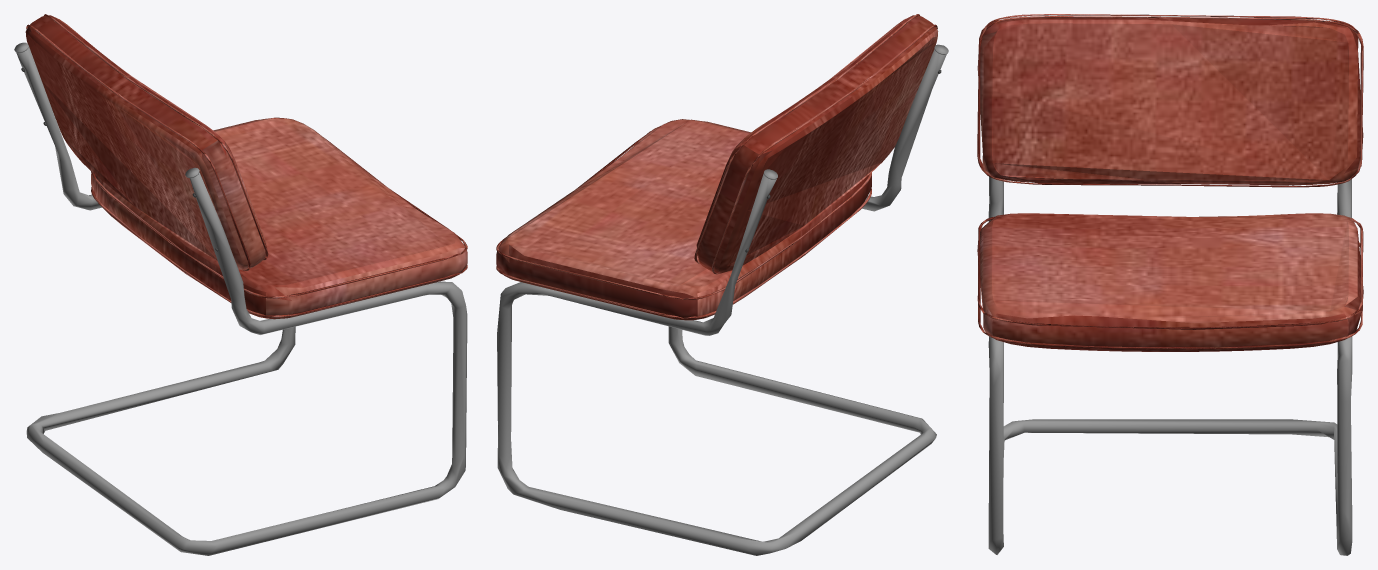
File: chair_optimized2.FBX
The picture shows the model from 3 angles, left to right: view 1: azimuth 30°, elevation 25°; view 2: azimuth 150°, elevation 25°; view 3: azimuth 270°, elevation 25°; orthographic projection. The views are drawn at different scales.
Visible parts, largest first — view 1: istuin, istuin001, runko; view 2: istuin, istuin001, runko; view 3: istuin001, istuin, runko.
Part boxes in pixels (bbox=[...]): istuin: bbox=[91, 117, 467, 319]; istuin001: bbox=[25, 14, 268, 270]; runko: bbox=[16, 46, 467, 555]; istuin: bbox=[496, 119, 871, 320]; istuin001: bbox=[694, 14, 938, 274]; runko: bbox=[497, 49, 946, 555]; istuin001: bbox=[977, 14, 1363, 187]; istuin: bbox=[977, 213, 1363, 351]; runko: bbox=[988, 177, 1352, 555].
Size of the model in its own units: 20.73 by 28.87 by 23.64.
Materials: 4 (2 with a texture image).
